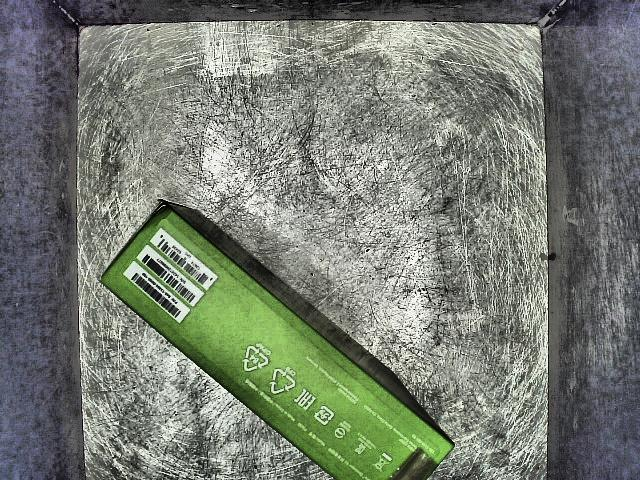Paper: (86, 191, 475, 480)
